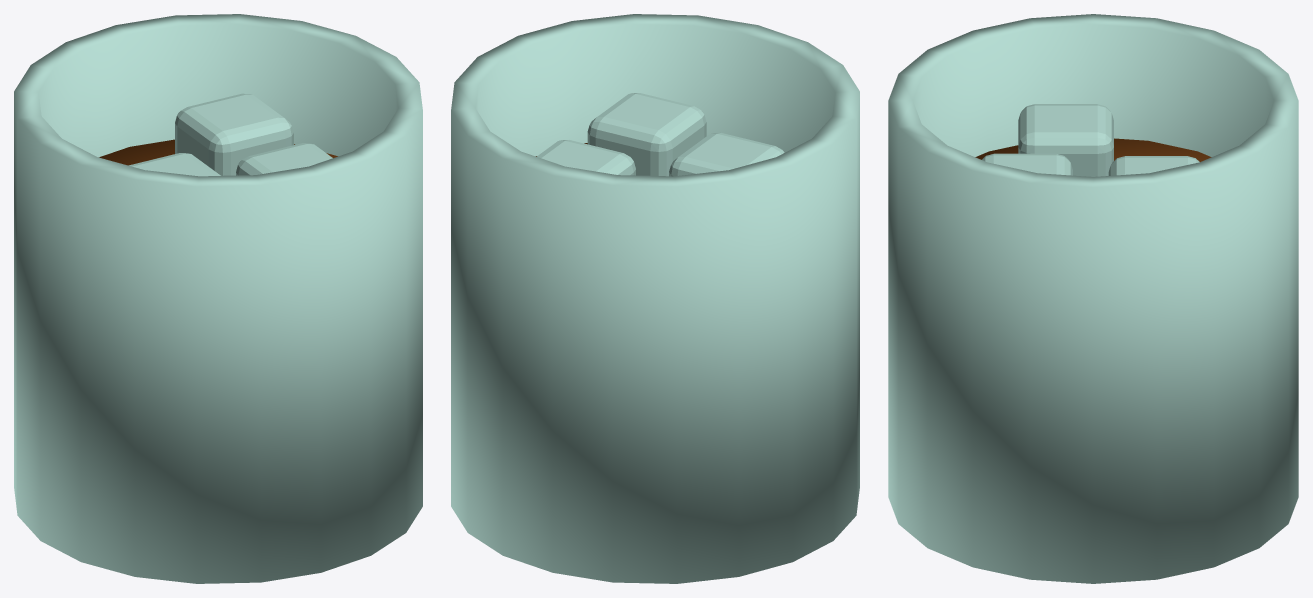
File: CP10c-glass.glb
3 views of the same model, side by side, from view 1: azimuth 30°, elevation 25°; view 2: azimuth 150°, elevation 25°; view 3: azimuth 270°, elevation 25° (orthographic).
Visible parts, largest first — view 1: CP10c-glass; view 2: CP10c-glass; view 3: CP10c-glass.
Part boxes in pixels (left/top/right/bottom): CP10c-glass: left=14, top=14, right=422, bottom=583; CP10c-glass: left=451, top=14, right=859, bottom=583; CP10c-glass: left=888, top=14, right=1298, bottom=583.
Bounding box in the file's own units: 0.15 × 0.16 × 0.15.
